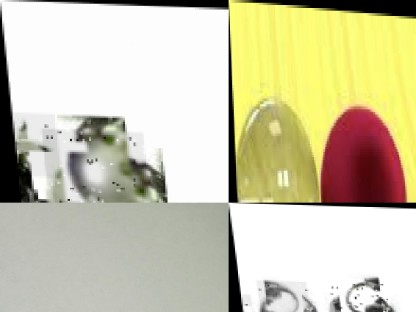ironball: (38, 128, 146, 202), (9, 112, 57, 177), (325, 277, 390, 311), (253, 280, 307, 311), (22, 193, 40, 202), (238, 294, 248, 306)
